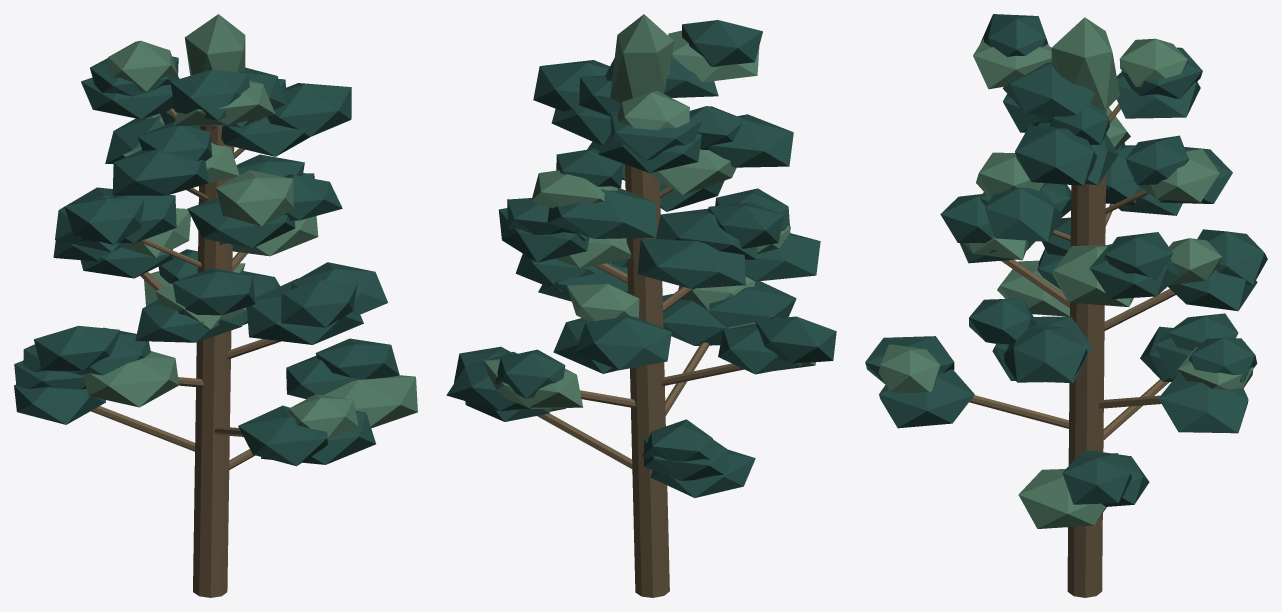
The model's file is SM_RainCedar.glb.
3 renders of one model, left to right at view 1: azimuth 30°, elevation 25°; view 2: azimuth 150°, elevation 25°; view 3: azimuth 270°, elevation 25°, orthographic.
Visible parts, largest first — view 1: SM_RainCedar; view 2: SM_RainCedar; view 3: SM_RainCedar.
Boxes of the visible parts, x1,y1,x2,y2 form: SM_RainCedar: (14,14,417,597); SM_RainCedar: (446,14,836,597); SM_RainCedar: (865,14,1267,597).
Size of the model in its own units: 8.81 by 13.02 by 8.23.
